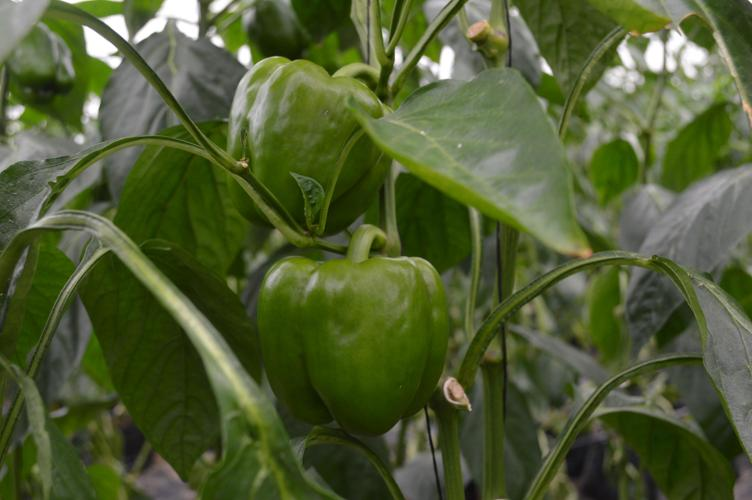BellPepper: (260, 254, 453, 437), (223, 54, 395, 232), (4, 23, 77, 102)
